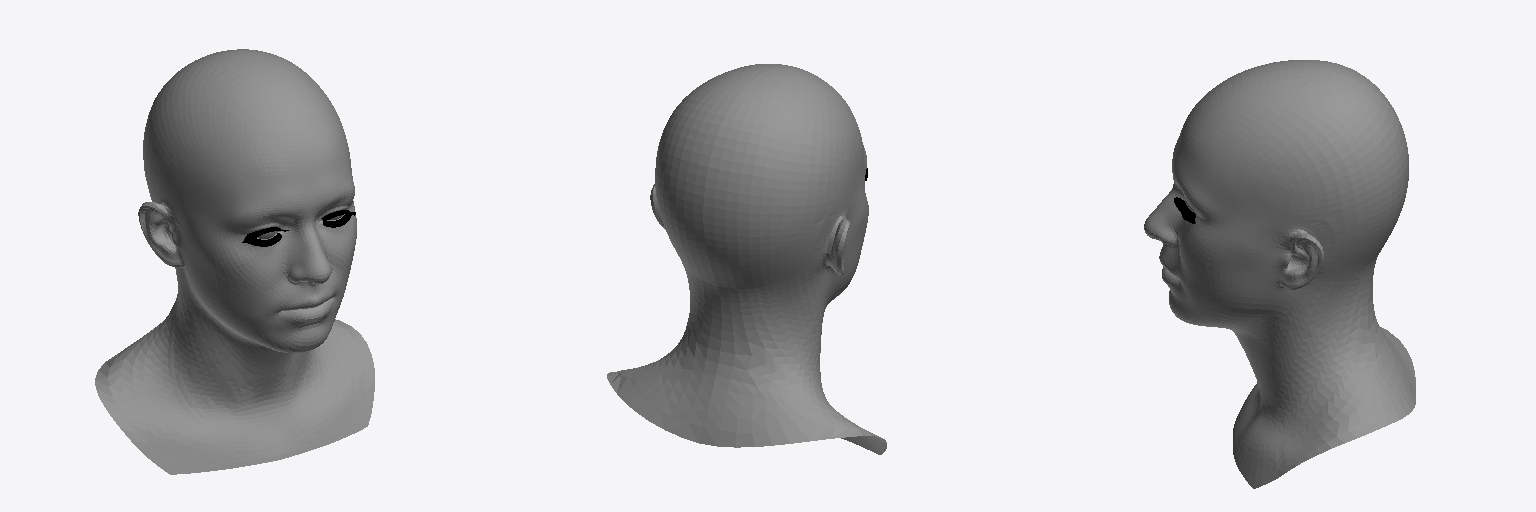
Rendered from cheekRaiser_L.obj.
3 renders of one model, left to right at view 1: azimuth 30°, elevation 25°; view 2: azimuth 150°, elevation 25°; view 3: azimuth 270°, elevation 25°, orthographic.
Bounding box in the file's own units: 24.83 × 33.81 × 22.31.